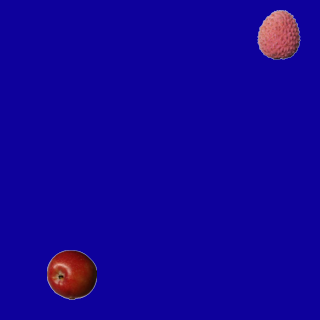Apple Braeburn: (46, 249, 96, 299)
Lychee: (253, 9, 303, 59)
